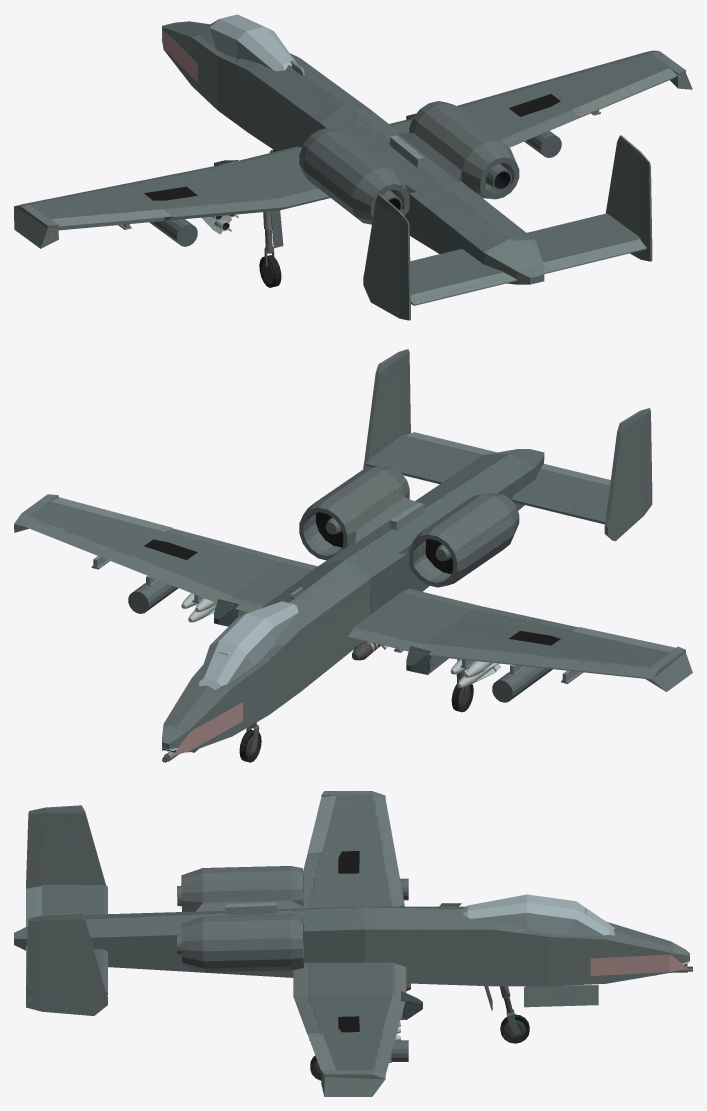
3 renders of one model, top to bottom at view 1: azimuth 30°, elevation 25°; view 2: azimuth 150°, elevation 25°; view 3: azimuth 270°, elevation 25°, orthographic. The views are drawn at different scales.
Parts seen in each view (by area): view 1: Object_6, Object_9, Object_153, Object_85; view 2: Object_6, Object_9, Object_153, Object_85; view 3: Object_6, Object_9, Object_85, Object_153.
Boxes of the visible parts, left/top/right/bottom form: Object_6: left=14, top=21, right=692, bottom=320; Object_9: left=144, top=14, right=560, bottom=200; Object_153: left=149, top=131, right=561, bottom=246; Object_85: left=259, top=149, right=283, bottom=287; Object_6: left=14, top=349, right=692, bottom=761; Object_9: left=144, top=539, right=560, bottom=762; Object_153: left=128, top=580, right=552, bottom=702; Object_85: left=239, top=659, right=473, bottom=762; Object_6: left=14, top=791, right=689, bottom=1096; Object_9: left=338, top=851, right=692, bottom=1032; Object_85: left=309, top=986, right=529, bottom=1080; Object_153: left=391, top=878, right=410, bottom=1061.
Size of the model in its own units: 17.5 by 5.01 by 17.33.
Materials: 4 (3 with a texture image).
